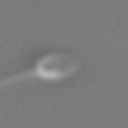normal: (1, 65, 37, 87)
